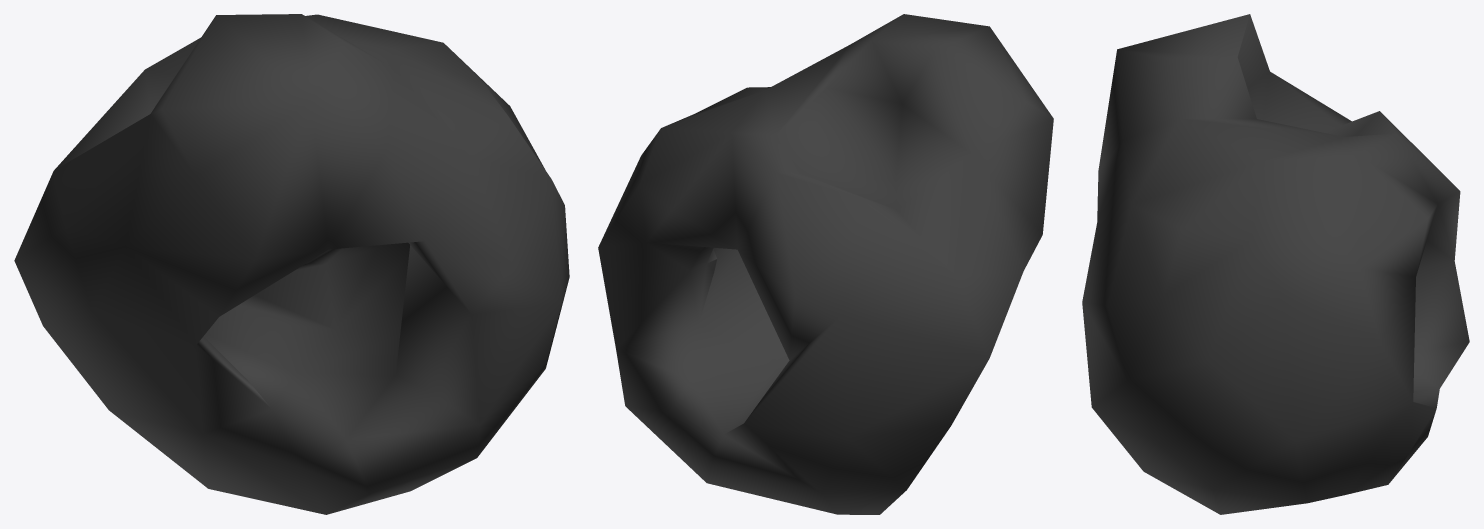
Rendered from cavern-0.glb.
3 renders of one model, left to right at view 1: azimuth 30°, elevation 25°; view 2: azimuth 150°, elevation 25°; view 3: azimuth 270°, elevation 25°, orthographic. The views are drawn at different scales.
Visible parts, largest first — view 1: geometry_0; view 2: geometry_0; view 3: geometry_0.
Boxes of the visible parts, <box> form: geometry_0: <box>14,14,569,514</box>; geometry_0: <box>598,14,1053,514</box>; geometry_0: <box>1082,14,1469,514</box>.
Size of the model in its own units: 0.9769 by 1 by 0.8208.
Materials: 1 (1 with a texture image).
